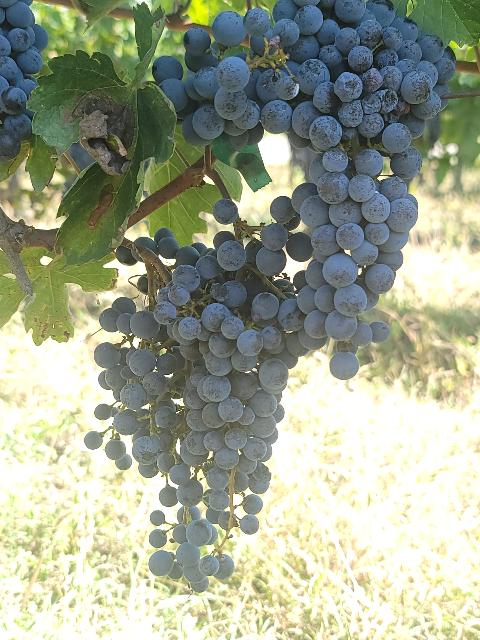grapes: (281, 0, 455, 380), (169, 224, 320, 589), (152, 9, 299, 180), (85, 229, 181, 478)
